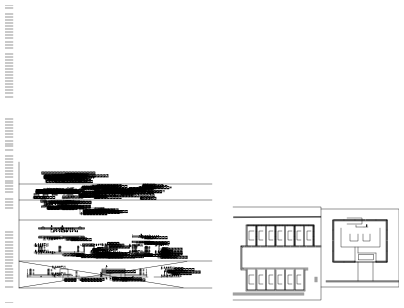door: (303, 20, 318, 35), (71, 128, 72, 129), (74, 127, 75, 128), (74, 128, 75, 129), (251, 29, 251, 36)
room: (324, 17, 404, 98), (243, 36, 324, 57), (344, 57, 384, 78), (297, 14, 306, 35), (287, 14, 296, 35), (278, 14, 287, 35), (268, 14, 277, 35), (258, 14, 267, 35), (248, 14, 257, 35), (248, 59, 257, 80), (258, 59, 267, 80), (268, 59, 277, 80), (278, 59, 287, 80), (287, 59, 296, 80), (297, 59, 306, 80), (307, 59, 316, 80), (164, 27, 171, 35), (299, 19, 304, 29), (260, 19, 265, 29), (260, 65, 265, 74), (299, 65, 304, 74), (309, 65, 314, 74), (290, 19, 294, 29), (280, 19, 284, 29), (270, 19, 274, 29), (251, 19, 255, 29), (251, 65, 255, 74), (270, 65, 274, 74), (280, 65, 284, 74), (290, 65, 294, 74), (103, 50, 106, 59), (102, 51, 105, 59), (166, 27, 169, 34)
wall: (15, 16, 186, 43), (344, 57, 384, 78), (234, 89, 324, 90), (362, 45, 377, 50), (117, 113, 120, 116), (67, 116, 69, 118), (38, 67, 40, 69), (76, 67, 78, 69), (57, 67, 59, 69), (100, 114, 102, 116), (117, 113, 120, 114), (117, 115, 120, 116), (78, 116, 80, 117), (75, 126, 76, 128), (38, 76, 40, 77), (76, 76, 78, 77), (57, 76, 59, 77), (125, 115, 127, 116), (157, 51, 159, 52), (66, 115, 67, 116), (52, 126, 53, 127), (75, 128, 76, 129), (124, 115, 125, 116), (163, 32, 164, 33), (64, 112, 64, 113), (68, 118, 69, 118), (38, 78, 40, 78), (76, 78, 78, 78), (57, 78, 59, 78), (64, 27, 147, 27), (234, 88, 324, 88), (147, 117, 147, 118)
window: (294, 8, 319, 34), (301, 18, 319, 36), (74, 128, 75, 129), (69, 126, 69, 127), (71, 126, 71, 127)
